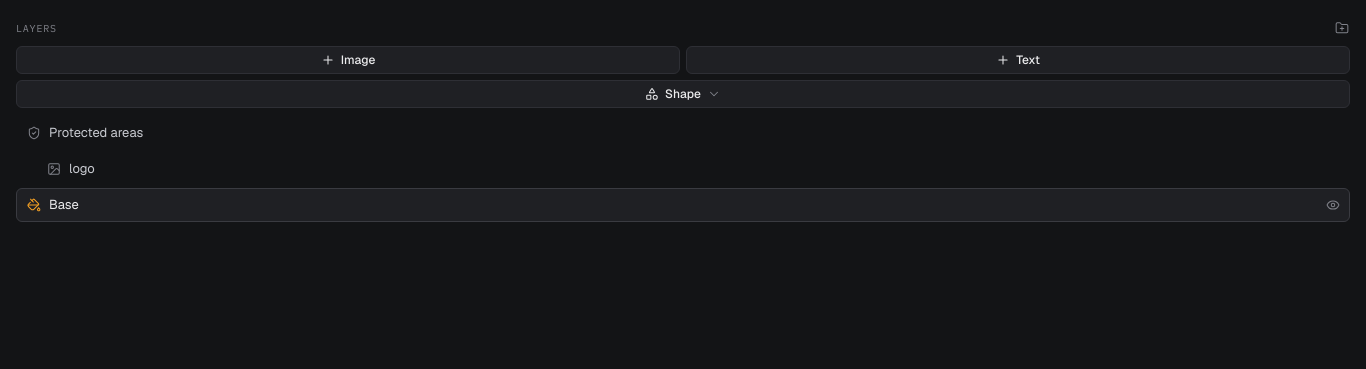
Test: Atelier Layers panel › New folder creates "Folder N" and starts renaming it
Click the button named "New folder" at coordinates (1342, 28), box [1330,16,1354,40]
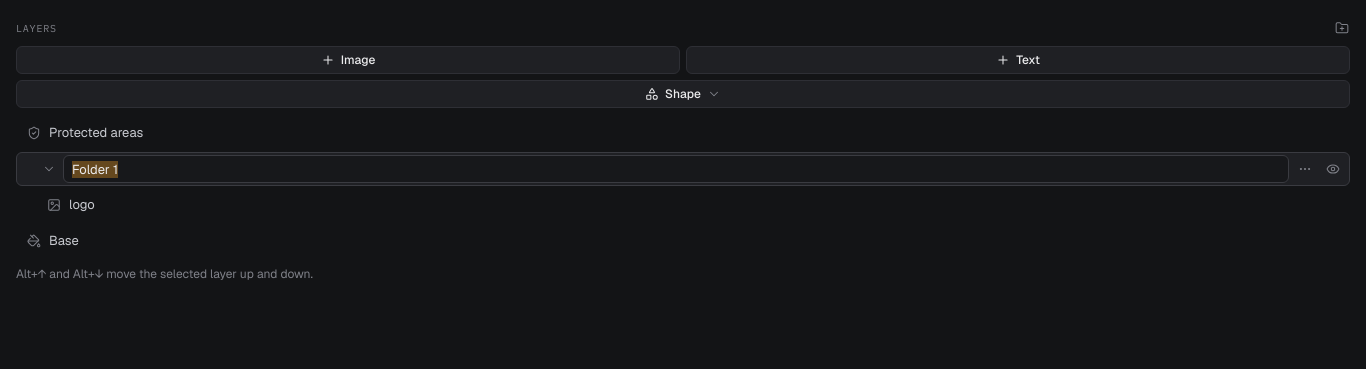
Type keys "Decals{Enter}"
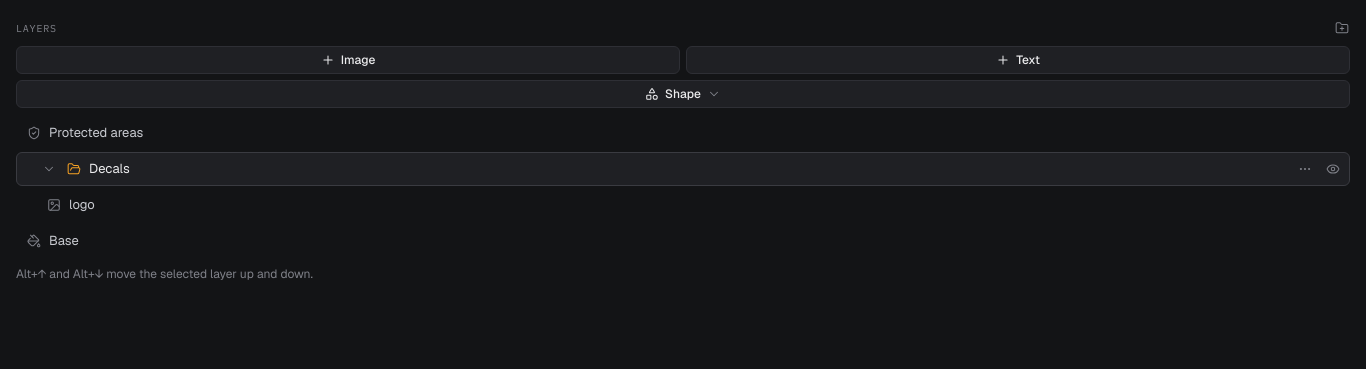
Check: the text "Decals" is shown, box [89,159,130,179]
# The next one takes the first free number: "Folder 1" is free again after the rename.
Click the button named "New folder" at coordinates (1342, 28), box [1330,16,1354,40]
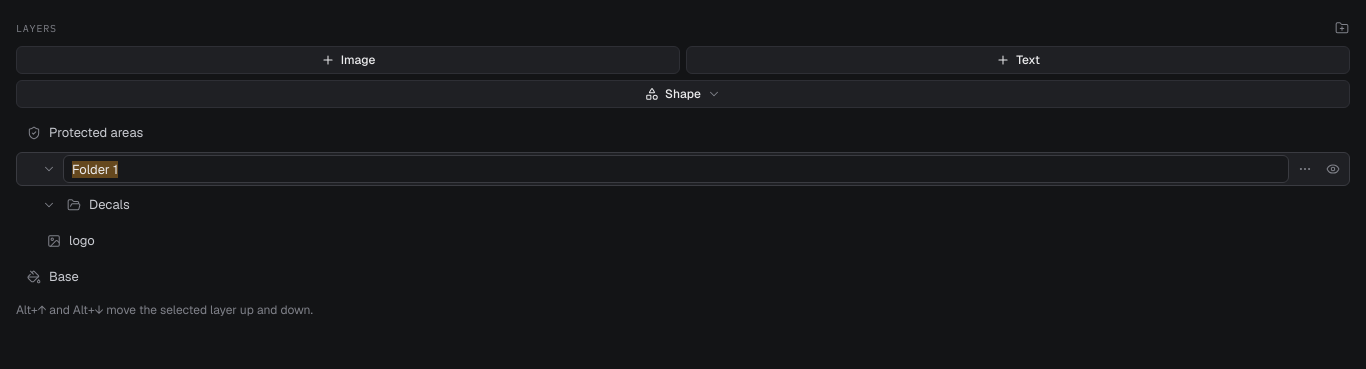
Check: the field named "New name for Folder 1" is shown, box [63,155,1289,183]
Press Enter
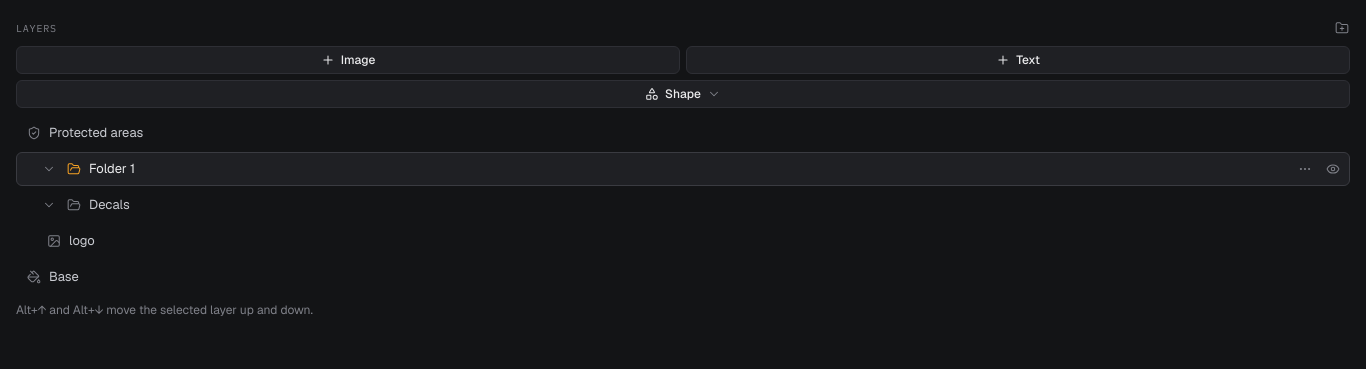
Click the button named "New folder" at coordinates (1342, 28), box [1330,16,1354,40]
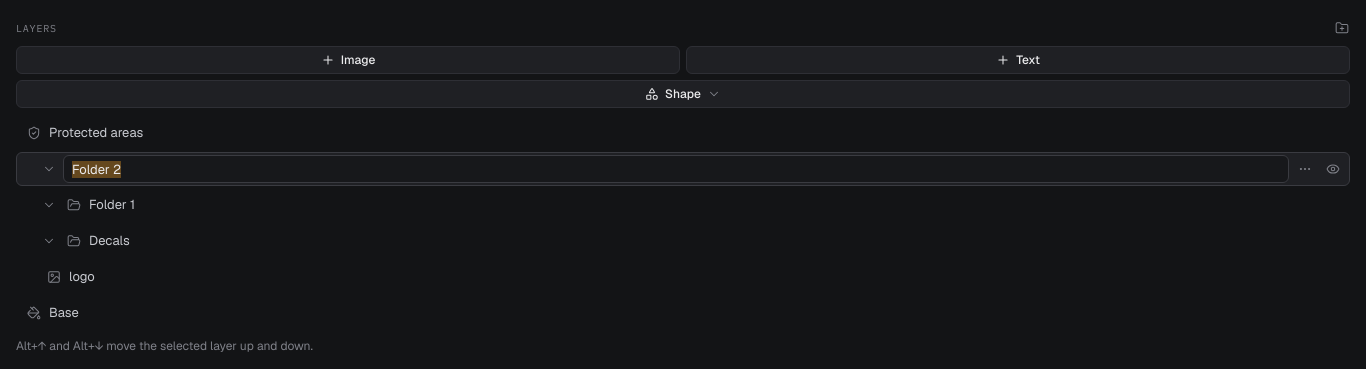
Check: the field named "New name for Folder 2" is shown, box [63,155,1289,183]
